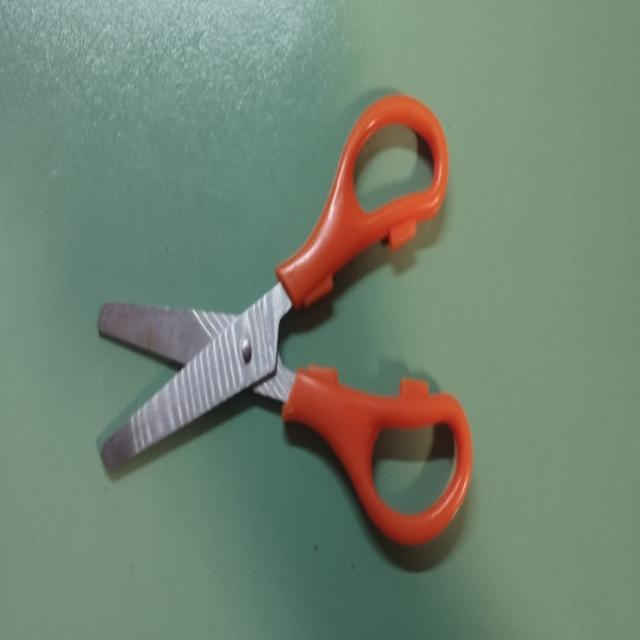tesoura: (94, 81, 476, 568)
